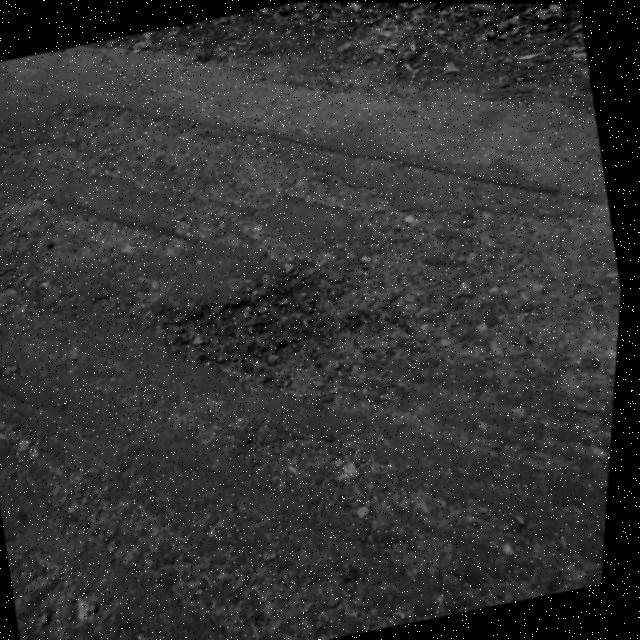pothole: (154, 241, 429, 428)
